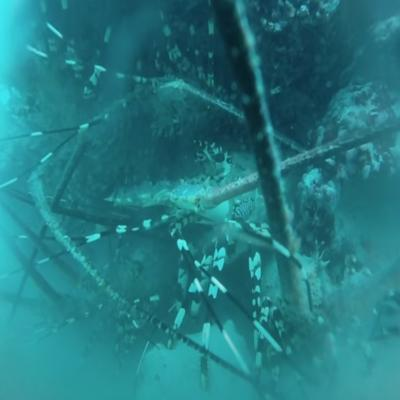lobster: (182, 146, 281, 245), (144, 60, 230, 136)
